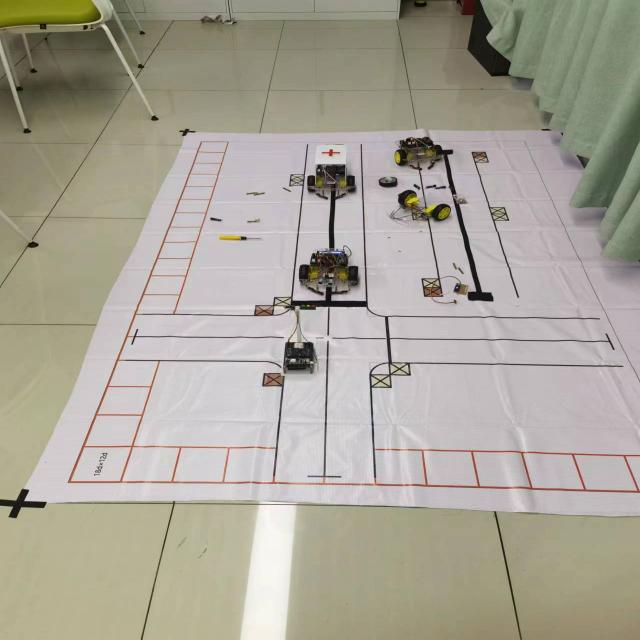RedCross: (315, 147, 345, 159)
